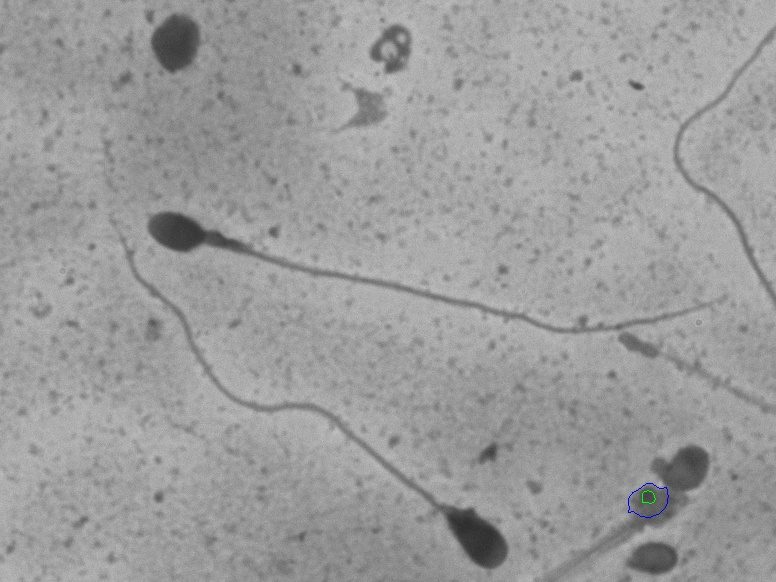Abnormal: (84, 203, 533, 575)
Normal: (141, 184, 739, 350)
